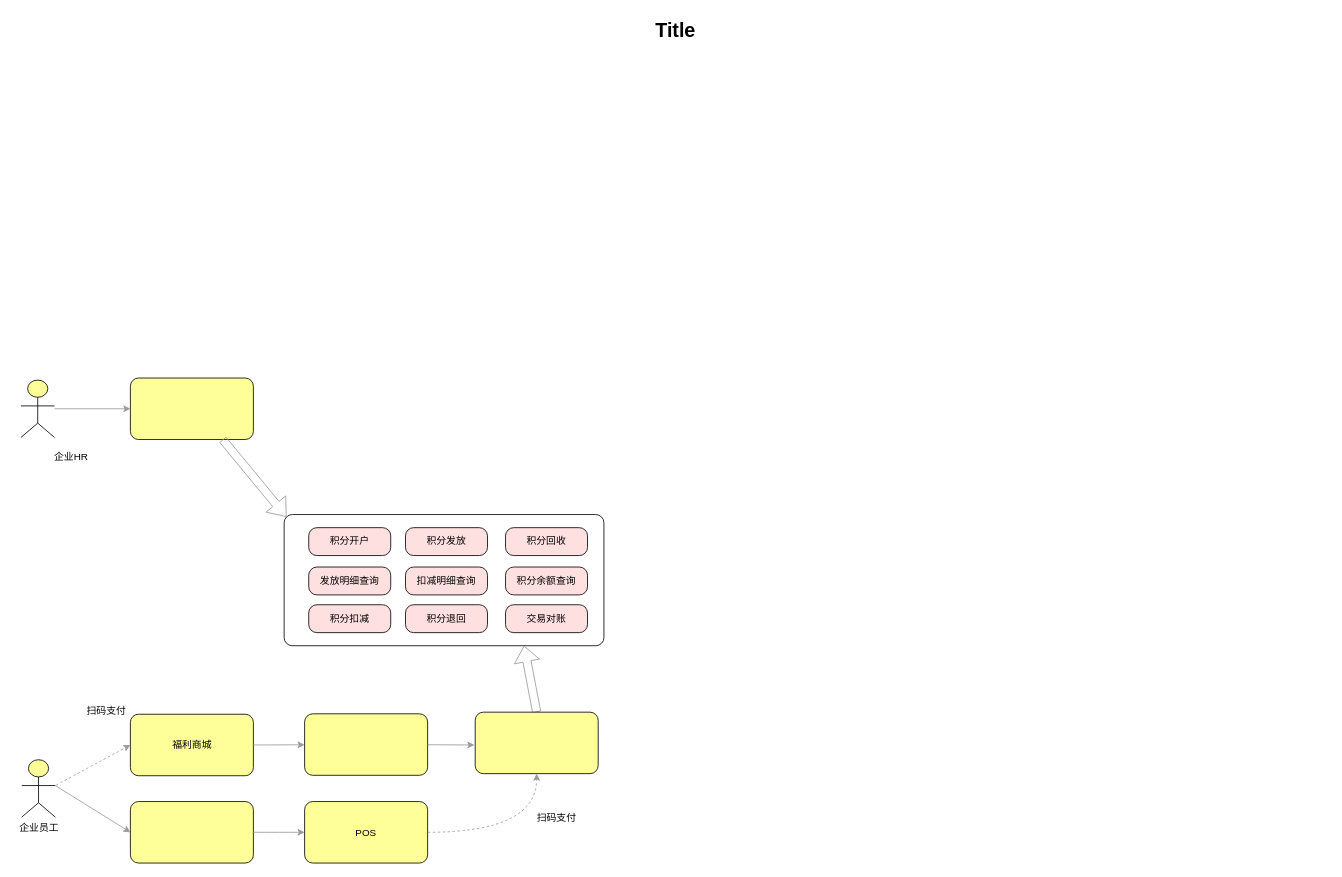
This 1342x877 diagram has some shape labels left out. Here are the shapes that lost their labels. From the top down, the box of each, then its label:
(130, 377, 253, 440): 福利管理平台
(304, 713, 428, 775): 收银台
(474, 711, 598, 774): 福利钱包
(130, 801, 253, 863): 线下银联商户
